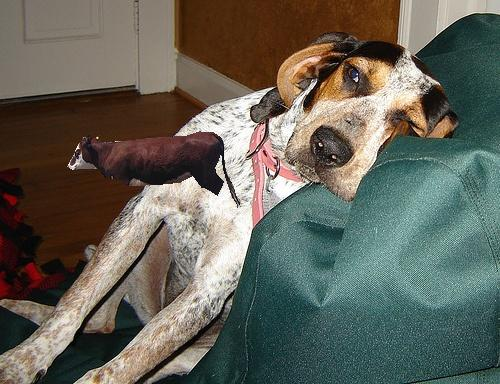tampered: (68, 132, 241, 208)
